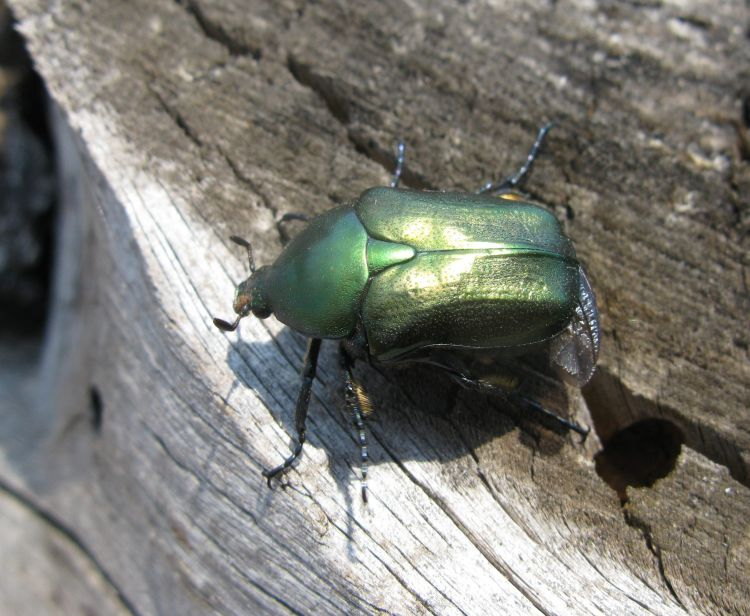Protaetia_angustata_angustata: (209, 105, 601, 501)
